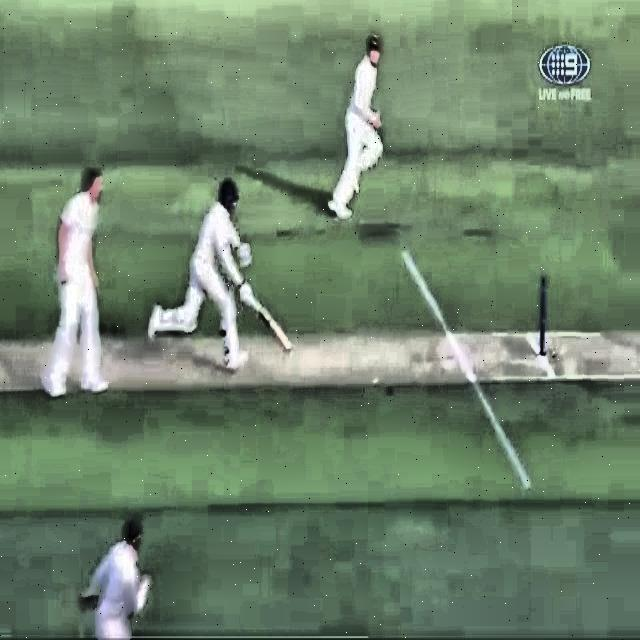Bat: (234, 282, 294, 354)
Pitch_Line: (399, 248, 532, 491)
Undis_Wicket: (533, 272, 555, 355)
